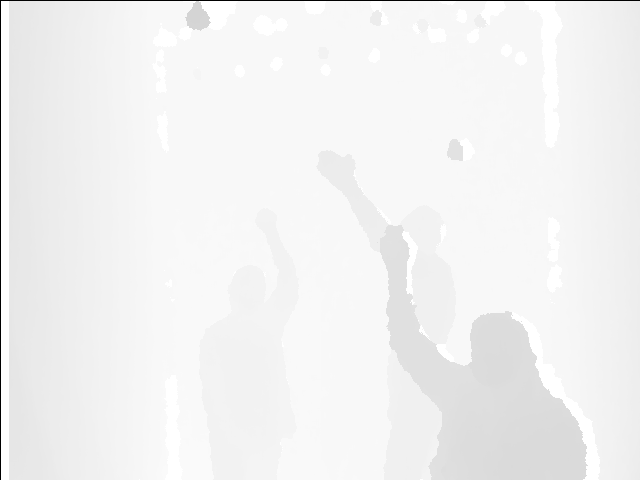hand: (377, 222, 415, 278), (316, 148, 351, 195), (251, 206, 280, 247)
